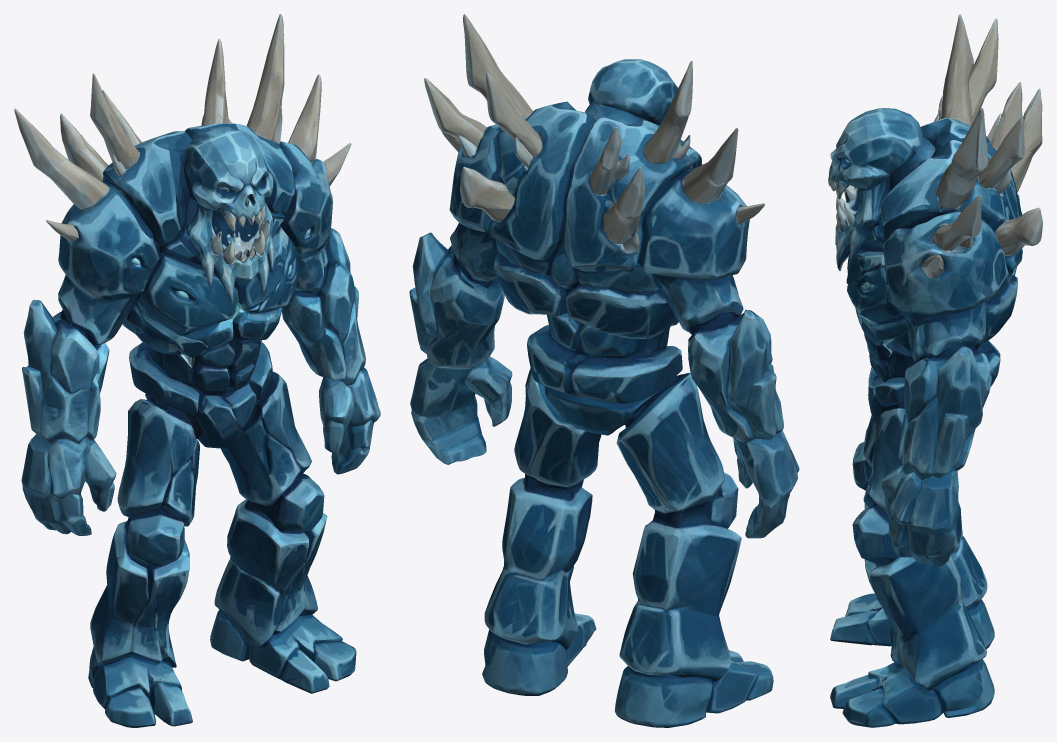
File: winters_maw.glb
The picture shows the model from 3 angles, left to right: view 1: azimuth 30°, elevation 25°; view 2: azimuth 150°, elevation 25°; view 3: azimuth 270°, elevation 25°; orthographic projection. The views are drawn at different scales.
Parts seen in each view (by area): view 1: Mesh_0; view 2: Mesh_0; view 3: Mesh_0.
Boxes of the visible parts, box(x1,y1,x2,y2) form: Mesh_0: box(14, 14, 380, 727); Mesh_0: box(409, 14, 799, 727); Mesh_0: box(828, 14, 1042, 727).
Bounding box in the file's own units: 1.13 × 1.9 × 0.6036.
1 material, 1 textured.
